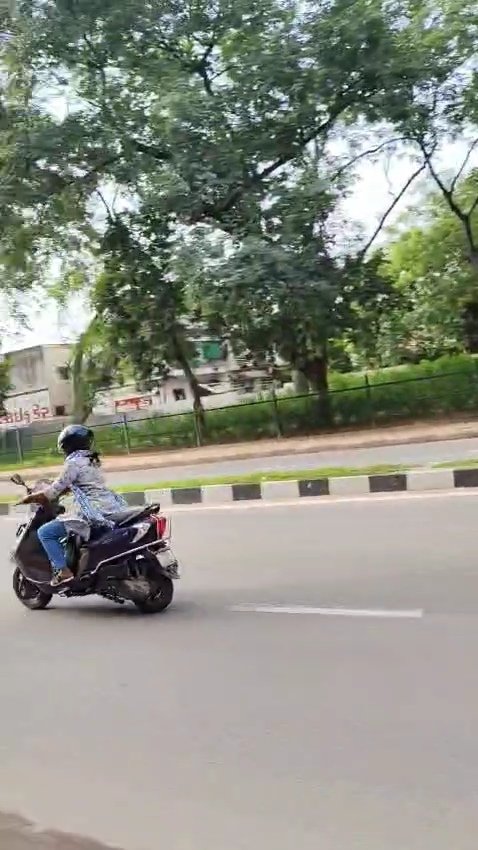BikeWithRider: (2, 418, 187, 621)
Helmet: (51, 420, 101, 459)
